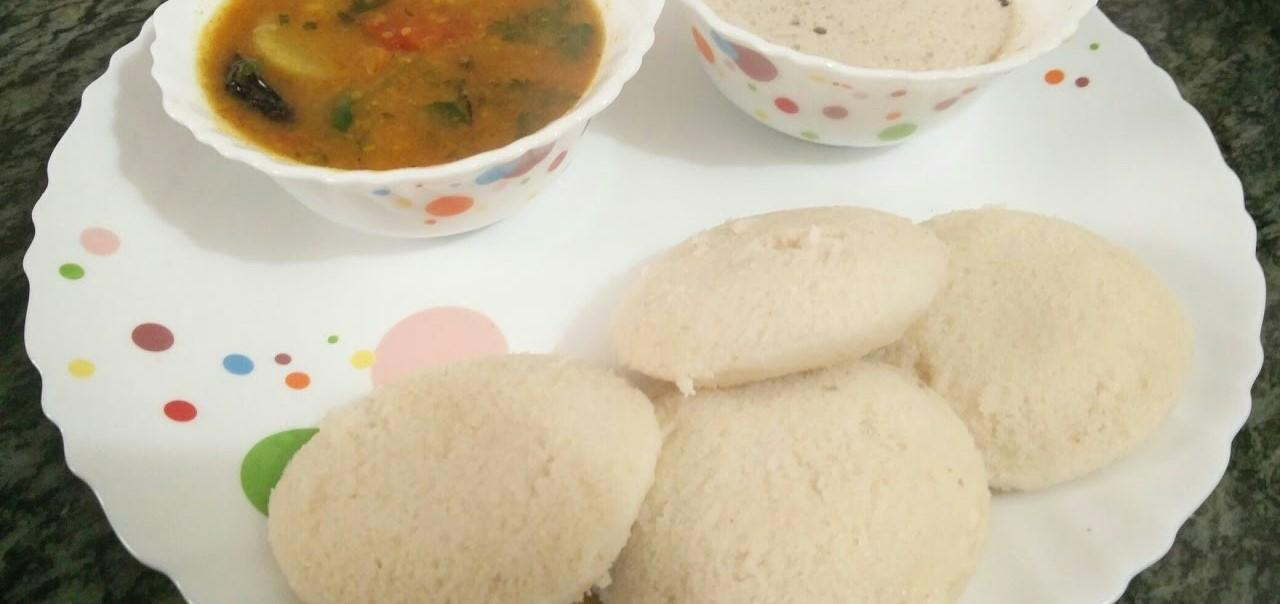Idli: (264, 356, 653, 604), (611, 376, 995, 604), (914, 204, 1186, 490), (599, 201, 950, 384)
